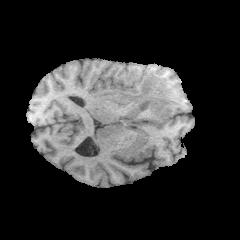glioma: (119, 68, 176, 121)
